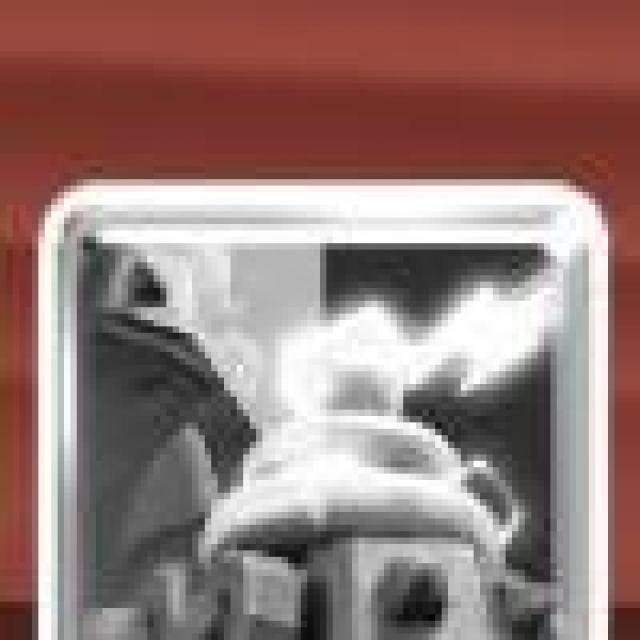Zappies: (46, 180, 607, 640)
